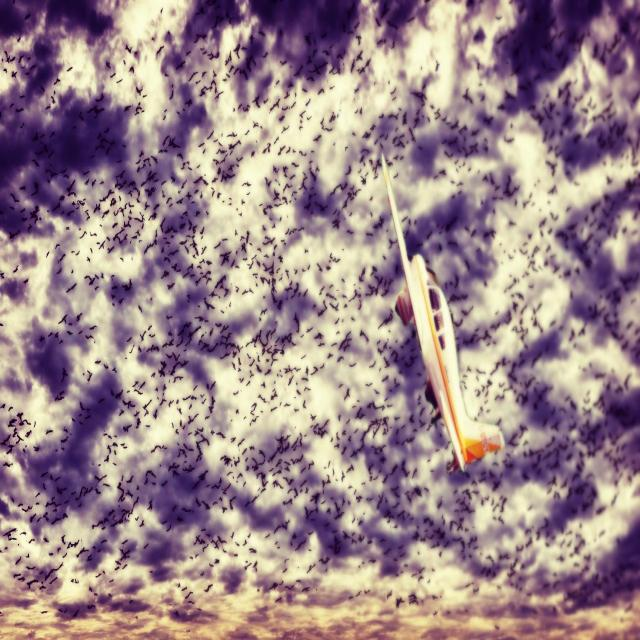airplane: (380, 151, 505, 475)
